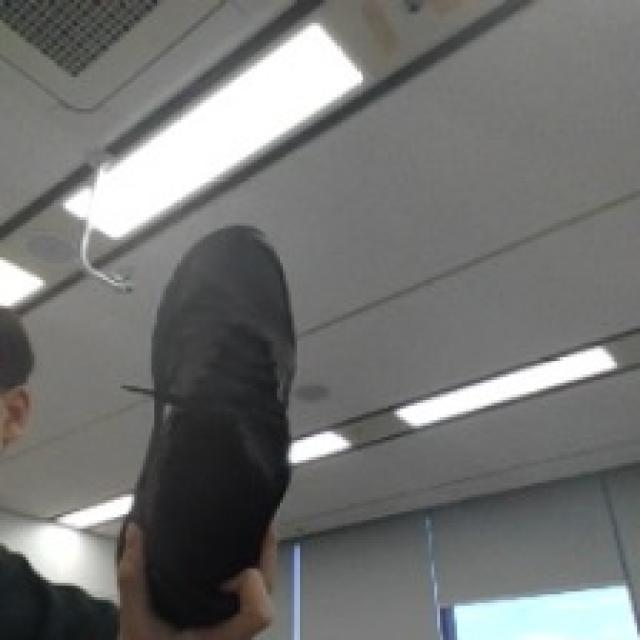shoe: (94, 189, 334, 629)
